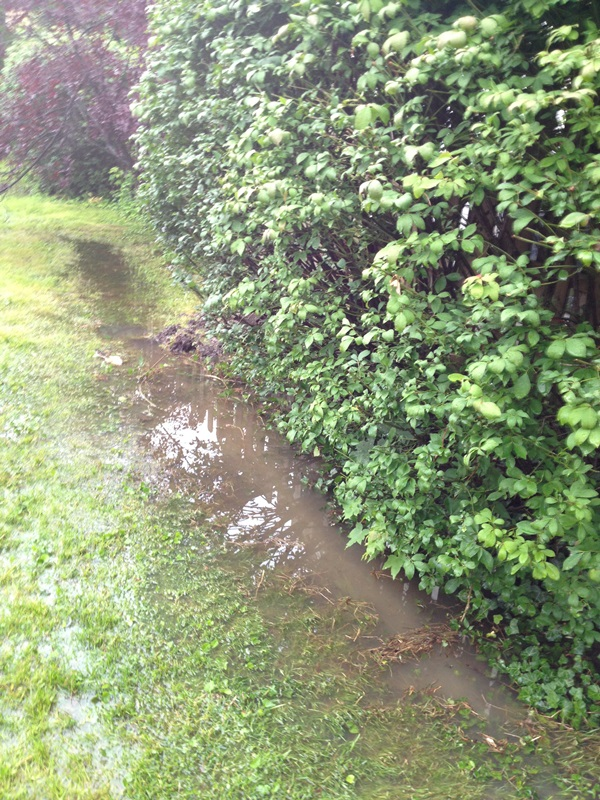vegetation: (157, 2, 600, 262), (348, 260, 600, 537), (259, 251, 383, 432), (530, 530, 600, 702), (472, 462, 542, 634)
water: (211, 427, 340, 601), (116, 330, 237, 493), (322, 562, 449, 704), (446, 651, 534, 753), (75, 239, 143, 346)
